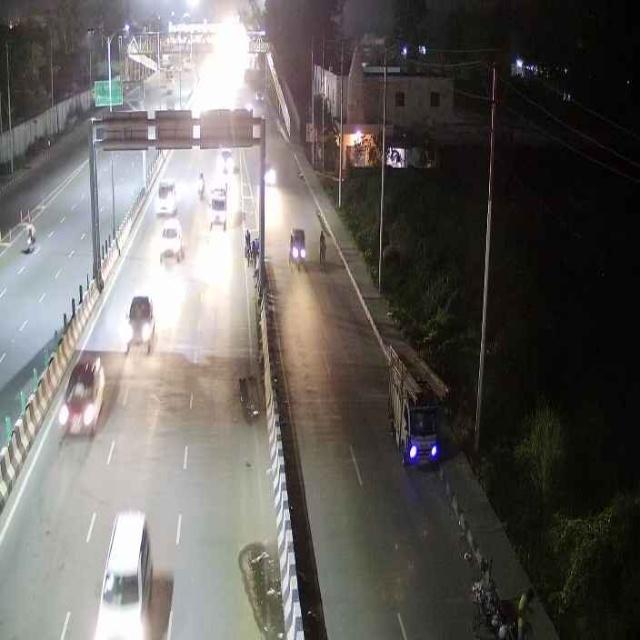car: (94, 504, 156, 640), (385, 351, 444, 471), (59, 351, 108, 441), (122, 290, 158, 353), (154, 215, 188, 263)
